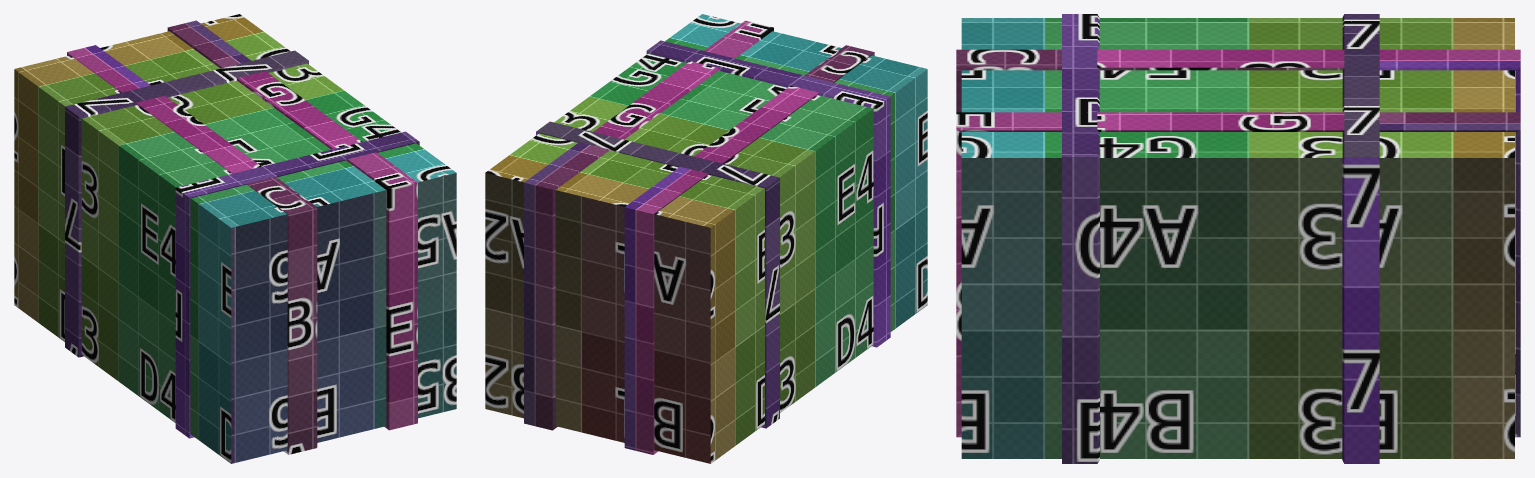
The model's file is mediumBox_1953.glb.
3 views of the same model, side by side, from view 1: azimuth 30°, elevation 25°; view 2: azimuth 150°, elevation 25°; view 3: azimuth 270°, elevation 25° (orthographic). The views are drawn at different scales.
Parts seen in each view (by area): view 1: BOX_LITTLE; view 2: BOX_LITTLE; view 3: BOX_LITTLE.
Boxes of the visible parts, left/top/right/bottom form: BOX_LITTLE: left=14, top=14, right=456, bottom=463; BOX_LITTLE: left=485, top=14, right=927, bottom=463; BOX_LITTLE: left=956, top=14, right=1520, bottom=463.
Bounding box in the file's own units: 0.3061 × 0.3061 × 0.5101.
Materials: 1 (1 with a texture image).
